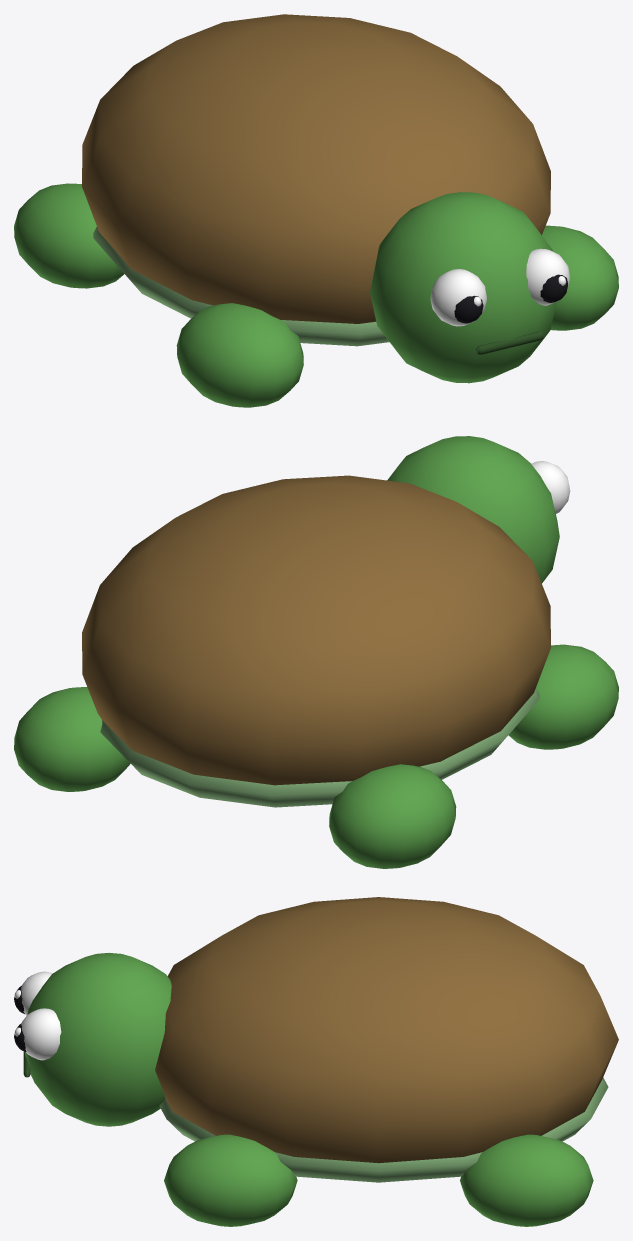
3 views of the same model, one above another, from view 1: azimuth 30°, elevation 25°; view 2: azimuth 150°, elevation 25°; view 3: azimuth 270°, elevation 25° (orthographic). The views are drawn at different scales.
Parts seen in each view (by area): view 1: Turtle; view 2: Turtle; view 3: Turtle.
Part boxes in pixels (x1,y1,x2,y2): Turtle: (14,14,618,407); Turtle: (14,436,618,868); Turtle: (14,897,618,1226).
Size of the model in its own units: 2.54 by 1.44 by 3.48.
Materials: 1 (1 with a texture image).
